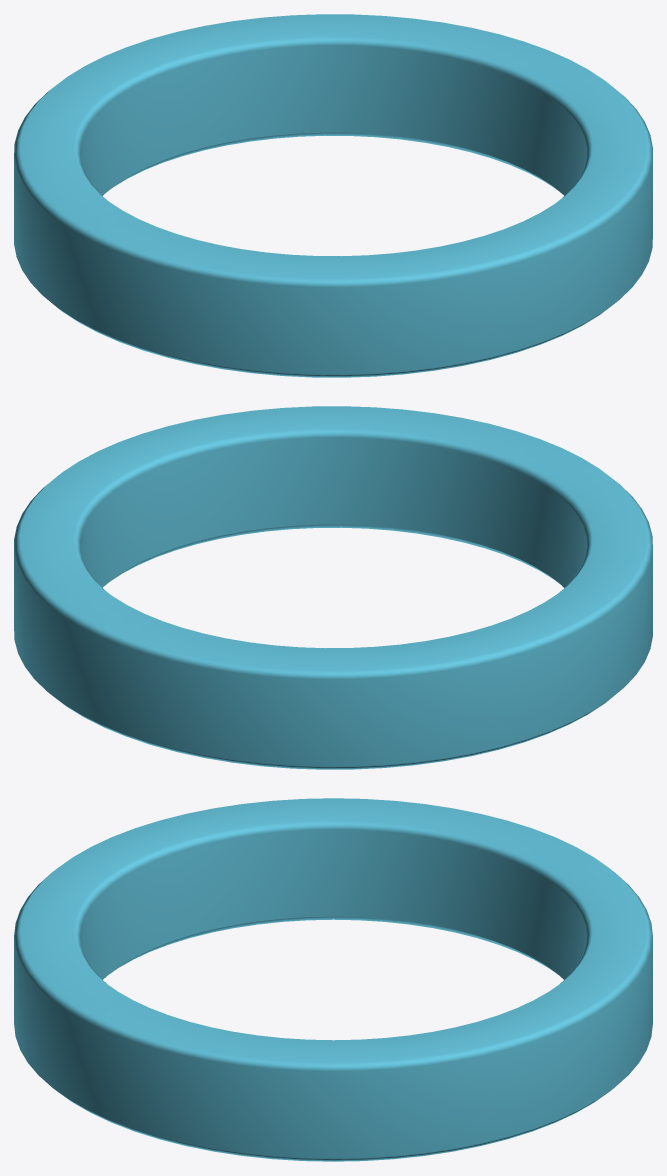
The picture shows the model from 3 angles, top to bottom: view 1: azimuth 30°, elevation 25°; view 2: azimuth 150°, elevation 25°; view 3: azimuth 270°, elevation 25°; orthographic projection.
Parts seen in each view (by area): view 1: seal_body; view 2: seal_body; view 3: seal_body.
Boxes of the visible parts, left/top/right/bottom form: seal_body: left=14, top=14, right=652, bottom=377; seal_body: left=14, top=406, right=652, bottom=769; seal_body: left=14, top=798, right=652, bottom=1161.
Bounding box in the file's own units: 0.048 × 0.0082 × 0.048.
